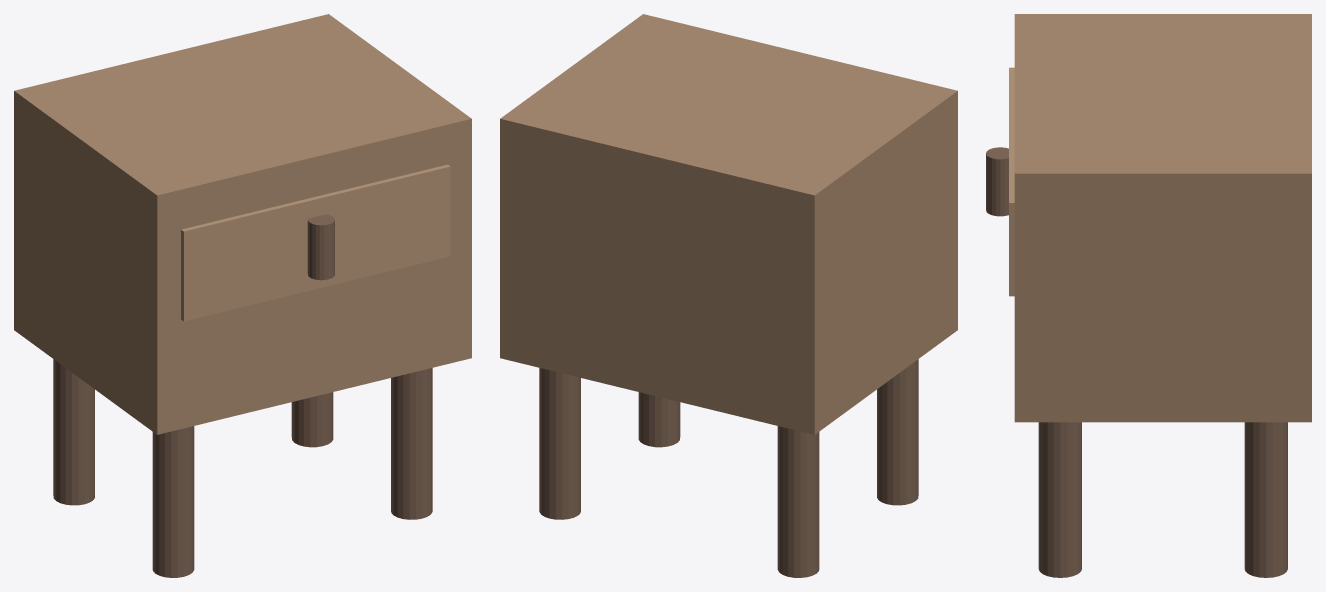
Rendered from side_table.glb.
3 views of the same model, side by side, from view 1: azimuth 30°, elevation 25°; view 2: azimuth 150°, elevation 25°; view 3: azimuth 270°, elevation 25° (orthographic). The views are drawn at different scales.
Visible parts, largest first — view 1: Cabinet, Drawer, Leg_1, Leg_3, Leg_0, Leg_2, Handle; view 2: Cabinet, Leg_0, Leg_2, Leg_1, Leg_3; view 3: Cabinet, Leg_2, Leg_3, Handle, Drawer.
Boxes of the visible parts, x1,y1,x2,y2 form: Cabinet: [14, 14, 471, 434]; Drawer: [181, 164, 450, 321]; Leg_1: [152, 426, 194, 577]; Leg_3: [391, 368, 432, 519]; Leg_0: [53, 359, 94, 505]; Leg_2: [291, 392, 333, 447]; Handle: [307, 214, 334, 280]; Cabinet: [500, 14, 957, 434]; Leg_0: [777, 426, 819, 577]; Leg_2: [539, 368, 580, 519]; Leg_1: [877, 359, 918, 505]; Leg_3: [638, 392, 680, 447]; Cabinet: [1014, 14, 1311, 422]; Leg_2: [1244, 422, 1287, 577]; Leg_3: [1038, 422, 1081, 577]; Handle: [986, 147, 1008, 216]; Drawer: [1009, 67, 1014, 296].
Bounding box in the file's own units: 0.66 × 0.8 × 0.57.
